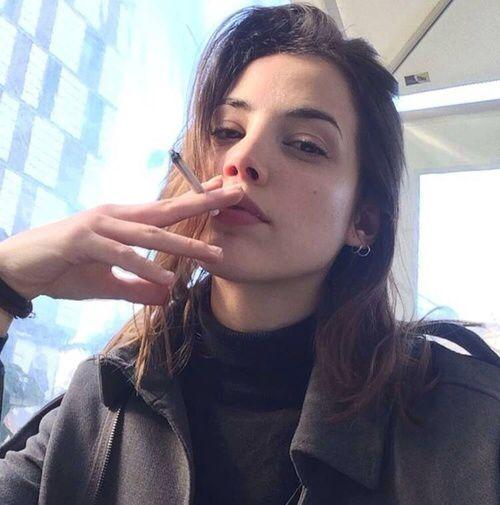cigarette: (171, 150, 220, 217)
